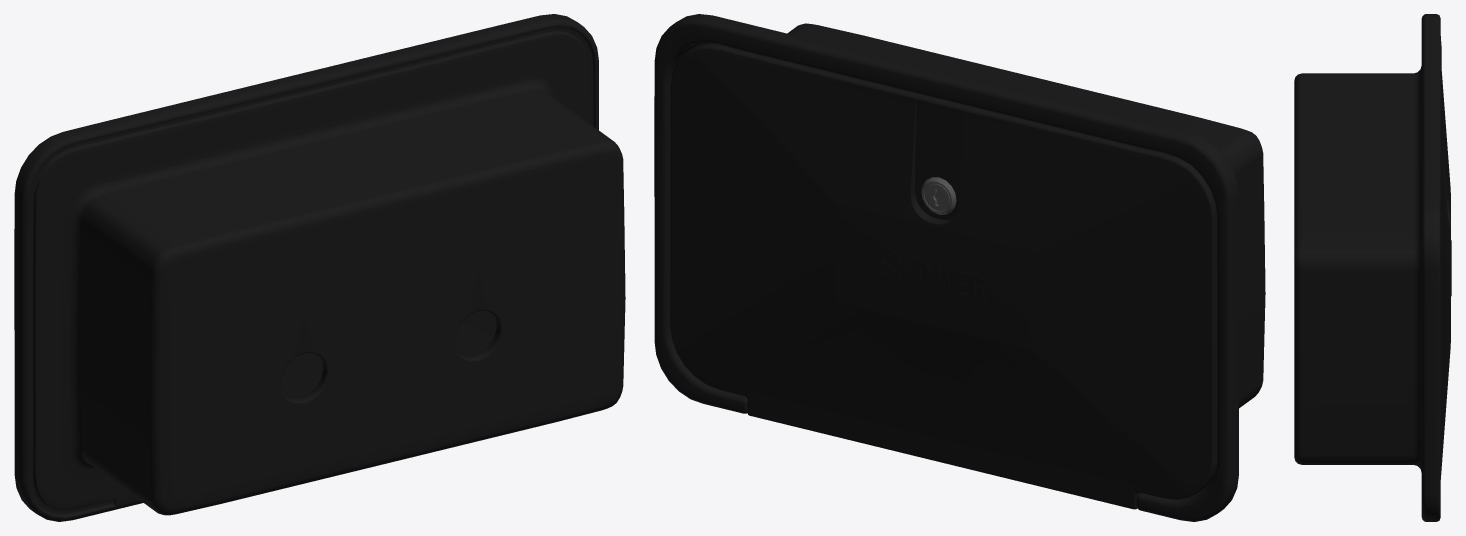
File: ShowerBox.glb
The picture shows the model from 3 angles, left to right: view 1: azimuth 30°, elevation 25°; view 2: azimuth 150°, elevation 25°; view 3: azimuth 270°, elevation 25°; orthographic projection. The views are drawn at different scales.
Parts seen in each view (by area): view 1: Shower_box; view 2: Shower_box; view 3: Shower_box.
Part boxes in pixels (x1,y1,x2,y2): Shower_box: [14, 14, 625, 521]; Shower_box: [654, 14, 1265, 521]; Shower_box: [1294, 14, 1451, 521].
Size of the model in its own units: 0.3379 by 0.2146 by 0.0986.
1 material, 1 textured.
